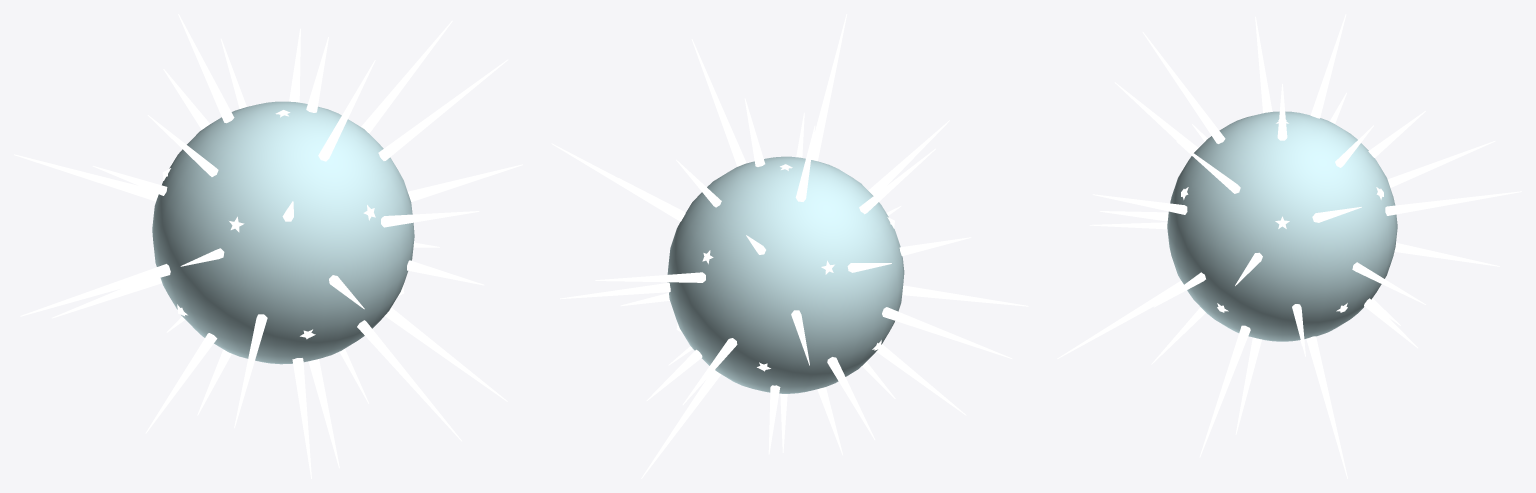
Rendered from E29_Radiolarian.glb.
3 views of the same model, side by side, from view 1: azimuth 30°, elevation 25°; view 2: azimuth 150°, elevation 25°; view 3: azimuth 270°, elevation 25° (orthographic). The views are drawn at different scales.
Parts seen in each view (by area): view 1: E29_Radiolarian_Mesh; view 2: E29_Radiolarian_Mesh; view 3: E29_Radiolarian_Mesh.
Boxes of the visible parts, left/top/right/bottom form: E29_Radiolarian_Mesh: left=14, top=14, right=522, bottom=478; E29_Radiolarian_Mesh: left=551, top=14, right=1028, bottom=478; E29_Radiolarian_Mesh: left=1057, top=14, right=1521, bottom=478.
Size of the model in its own units: 6.21 by 5.74 by 6.05.
